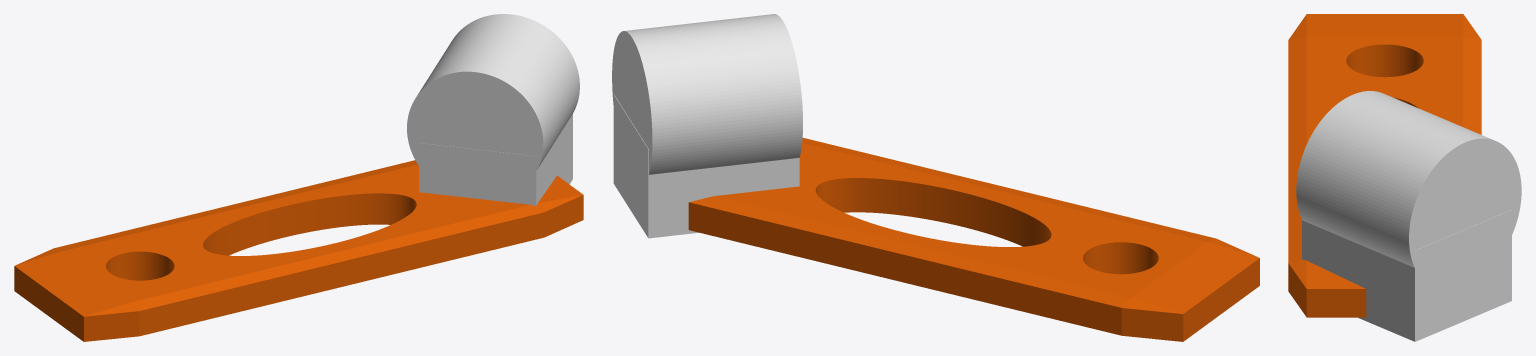
File: dh_sim_link_2.dae
3 renders of one model, left to right at view 1: azimuth 30°, elevation 25°; view 2: azimuth 150°, elevation 25°; view 3: azimuth 270°, elevation 25°, orthographic. The views are drawn at different scales.
Parts seen in each view (by area): view 1: Cube; view 2: Cube; view 3: Cube.
Boxes of the visible parts, <box> form: Cube: <box>14,14,583,341</box>; Cube: <box>612,14,1259,341</box>; Cube: <box>1288,14,1521,341</box>.
Size of the model in its own units: 1.82 by 0.6032 by 0.5082.
